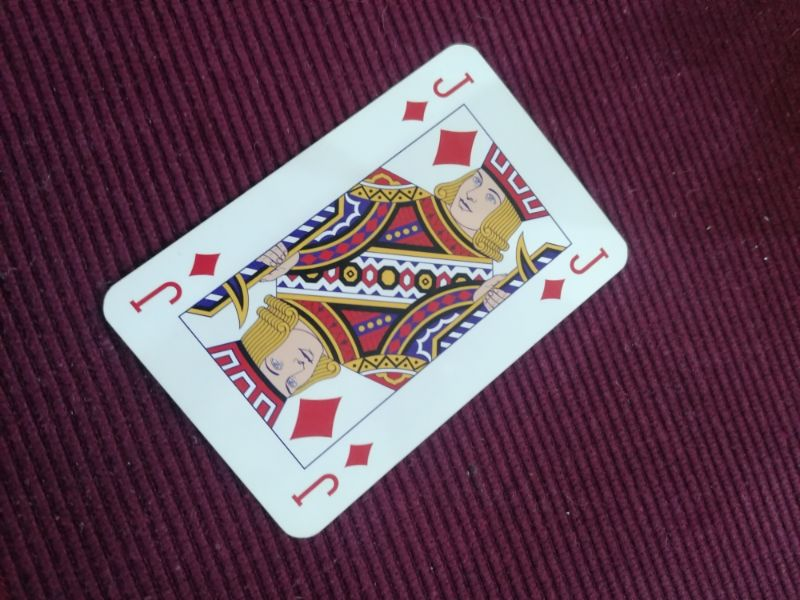Jd: (128, 245, 225, 317), (288, 437, 379, 511), (535, 241, 615, 306), (399, 68, 480, 129)
